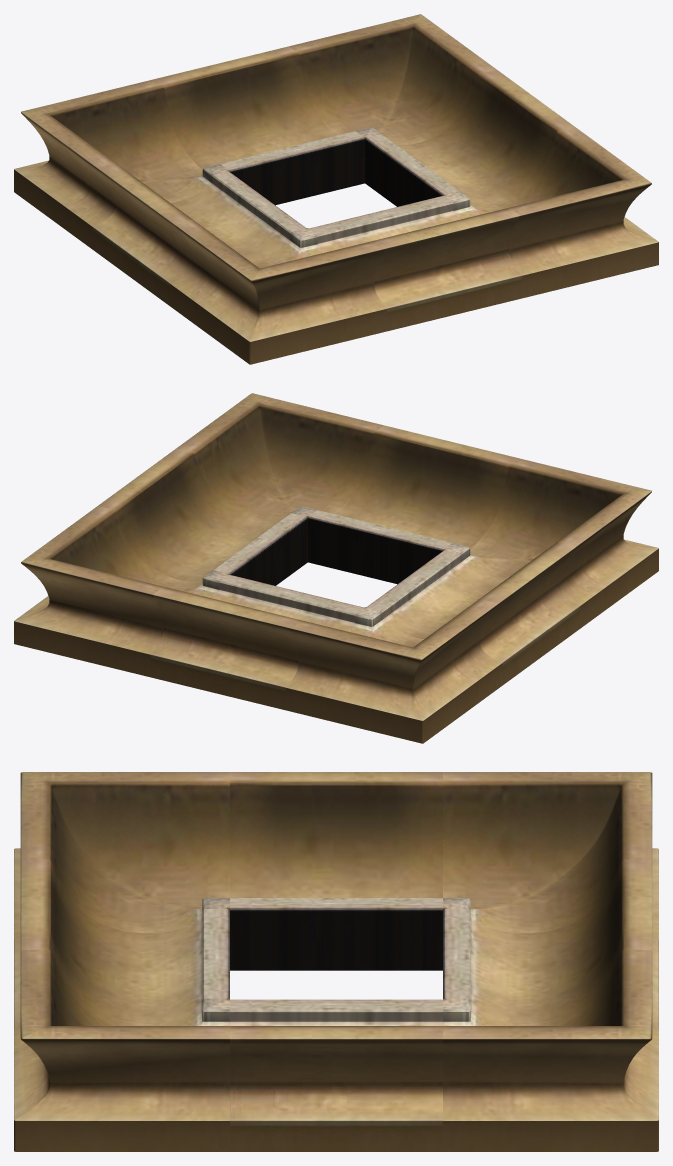
The model's file is website2-bronse.FBX.
3 renders of one model, top to bottom at view 1: azimuth 30°, elevation 25°; view 2: azimuth 150°, elevation 25°; view 3: azimuth 270°, elevation 25°, orthographic. The views are drawn at different scales.
Visible parts, largest first — view 1: website2bronse_Corner_Bottom_L, website2bronse_Top, website2bronse_Corner_Bottom_R, website2bronse_Corner_Top_L, website2bronse_Corner_Top_R, website2bronse_Bottom, website2bronse_R, website2bronse_L; view 2: website2bronse_Corner_Top_L, website2bronse_Bottom, website2bronse_Corner_Top_R, website2bronse_Corner_Bottom_L, website2bronse_Corner_Bottom_R, website2bronse_Top, website2bronse_R, website2bronse_L; view 3: website2bronse_L, website2bronse_Corner_Bottom_R, website2bronse_Corner_Top_R, website2bronse_R, website2bronse_Corner_Top_L, website2bronse_Corner_Bottom_L, website2bronse_Top, website2bronse_Bottom.
Part boxes in pixels (bbox=[...]): website2bronse_Corner_Bottom_L: bbox=[170, 220, 386, 364]; website2bronse_Top: bbox=[154, 46, 364, 205]; website2bronse_Corner_Bottom_R: bbox=[443, 127, 658, 298]; website2bronse_Corner_Top_L: bbox=[14, 79, 229, 249]; website2bronse_Corner_Top_R: bbox=[289, 14, 496, 144]; website2bronse_Bottom: bbox=[309, 195, 522, 331]; website2bronse_R: bbox=[365, 70, 575, 206]; website2bronse_L: bbox=[92, 163, 306, 306]; website2bronse_Corner_Top_L: bbox=[286, 599, 502, 743]; website2bronse_Bottom: bbox=[308, 425, 518, 584]; website2bronse_Corner_Top_R: bbox=[14, 506, 229, 677]; website2bronse_Corner_Bottom_L: bbox=[443, 458, 658, 628]; website2bronse_Corner_Bottom_R: bbox=[176, 393, 383, 523]; website2bronse_Top: bbox=[150, 574, 363, 710]; website2bronse_R: bbox=[97, 449, 307, 585]; website2bronse_L: bbox=[366, 542, 580, 685]; website2bronse_L: bbox=[230, 772, 442, 970]; website2bronse_Corner_Bottom_R: bbox=[14, 949, 229, 1151]; website2bronse_Corner_Top_R: bbox=[443, 949, 658, 1151]; website2bronse_R: bbox=[230, 999, 442, 1151]; website2bronse_Corner_Top_L: bbox=[443, 772, 658, 939]; website2bronse_Corner_Bottom_L: bbox=[14, 772, 229, 939]; website2bronse_Top: bbox=[443, 859, 658, 1029]; website2bronse_Bottom: bbox=[14, 859, 229, 1029].
Size of the model in its own units: 394 by 394 by 75.02.
2 materials, 2 textured.
